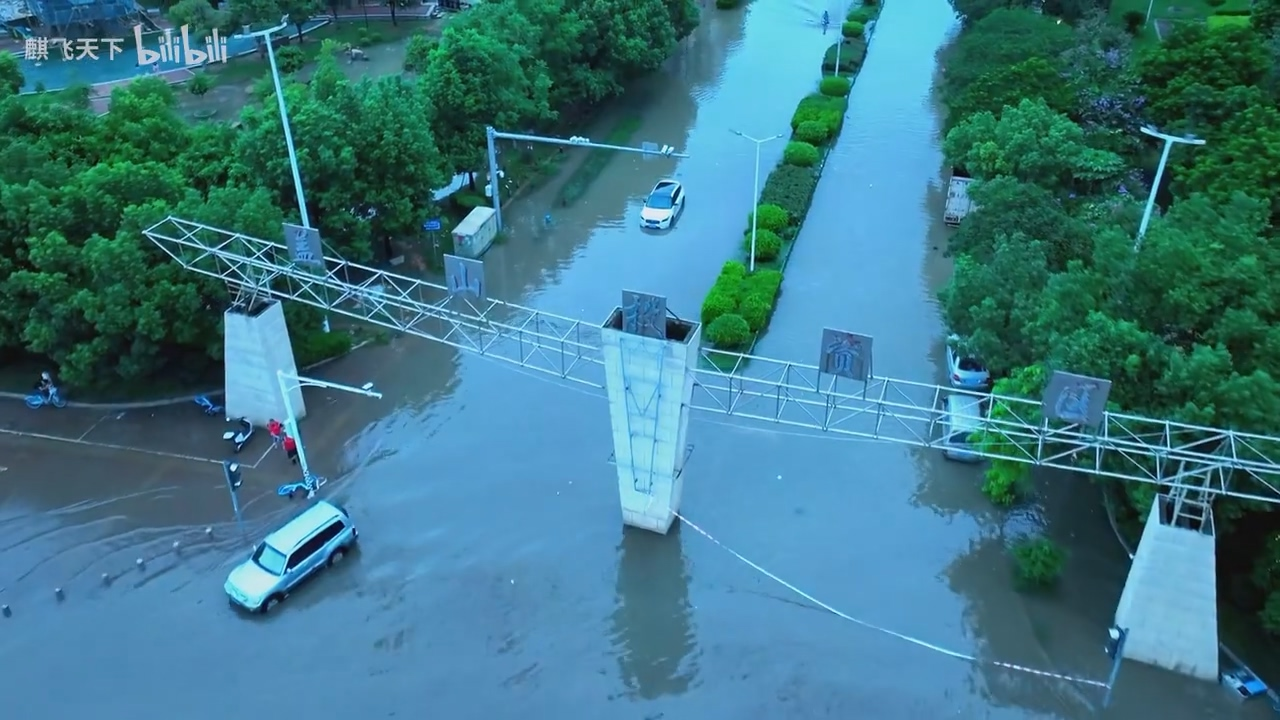puddle: (10, 413, 1079, 720), (558, 59, 961, 352)
